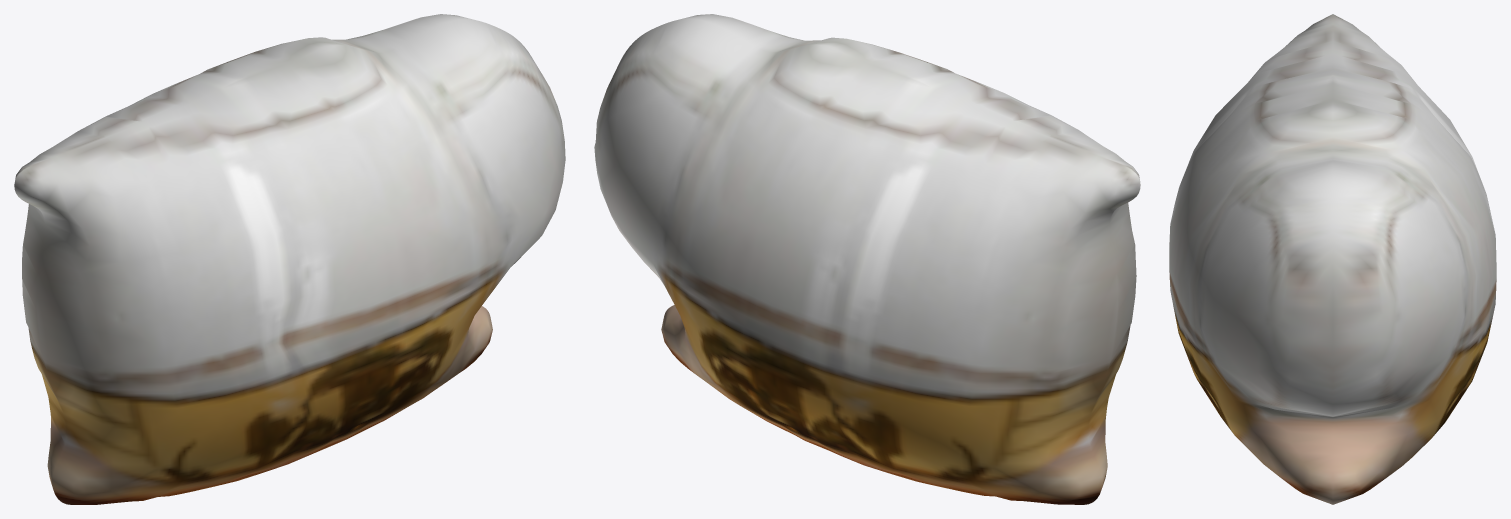
File: teacup.glb
3 renders of one model, left to right at view 1: azimuth 30°, elevation 25°; view 2: azimuth 150°, elevation 25°; view 3: azimuth 270°, elevation 25°, orthographic. The views are drawn at different scales.
Visible parts, largest first — view 1: e86cebfb-75d8-4e8d-88d1-feb20ef47b38; view 2: e86cebfb-75d8-4e8d-88d1-feb20ef47b38; view 3: e86cebfb-75d8-4e8d-88d1-feb20ef47b38.
Boxes of the visible parts, x1=… form: e86cebfb-75d8-4e8d-88d1-feb20ef47b38: x1=14, y1=14, x2=565, y2=504; e86cebfb-75d8-4e8d-88d1-feb20ef47b38: x1=594, y1=14, x2=1140, y2=504; e86cebfb-75d8-4e8d-88d1-feb20ef47b38: x1=1169, y1=14, x2=1496, y2=504.
Size of the model in its own units: 1.38 by 0.9772 by 0.7601.
Materials: 1 (1 with a texture image).
